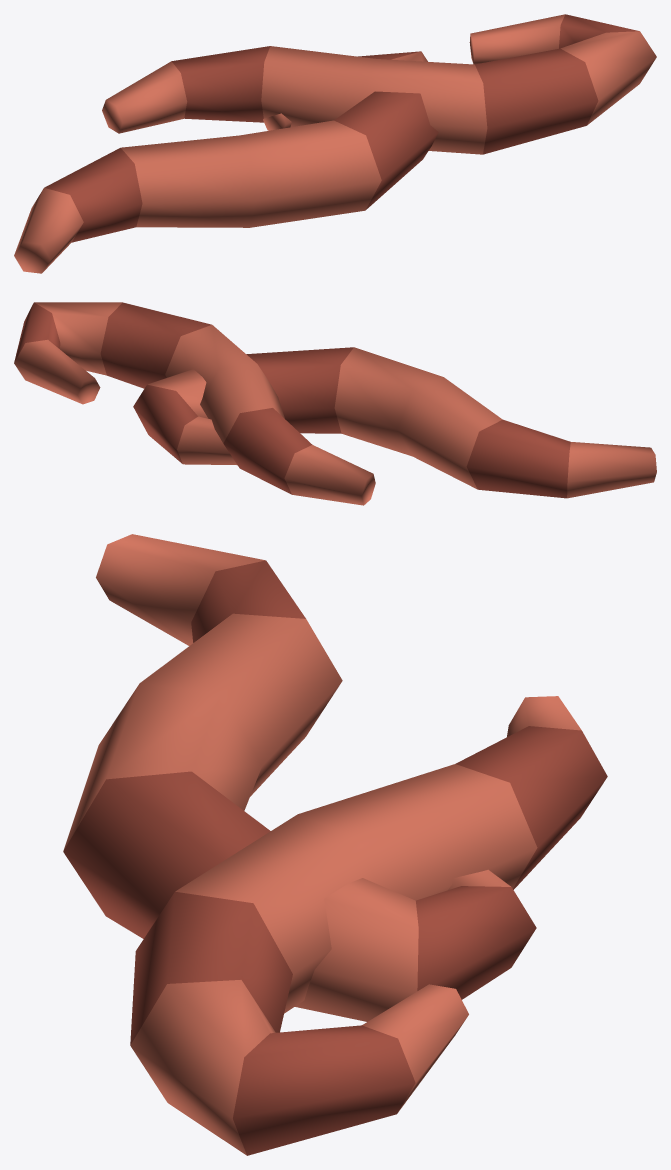
Rendered from FishingBaitStack2.glb.
3 renders of one model, top to bottom at view 1: azimuth 30°, elevation 25°; view 2: azimuth 150°, elevation 25°; view 3: azimuth 270°, elevation 25°, orthographic. The views are drawn at different scales.
Parts seen in each view (by area): view 1: EQ_FishingBait_x2; view 2: EQ_FishingBait_x2; view 3: EQ_FishingBait_x2.
Boxes of the visible parts, bbox=[...] form: EQ_FishingBait_x2: bbox=[14, 14, 656, 273]; EQ_FishingBait_x2: bbox=[14, 302, 656, 505]; EQ_FishingBait_x2: bbox=[63, 534, 607, 1155].
Bounding box in the file's own units: 0.644 × 0.0757 × 0.2486.
